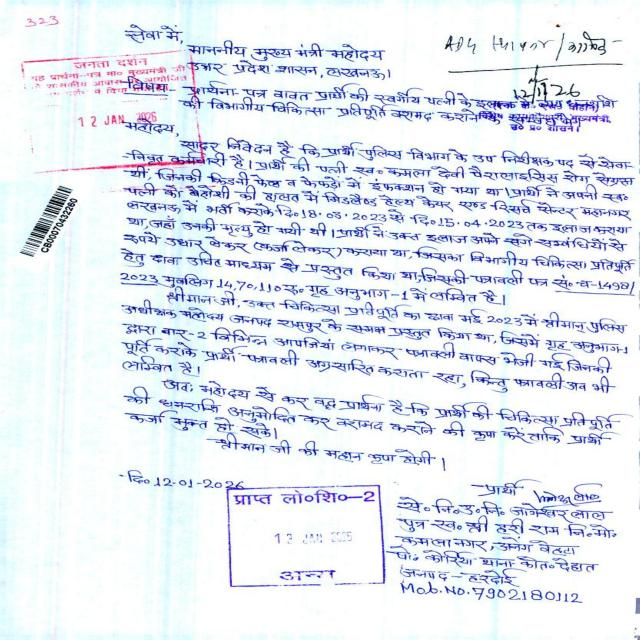antritgovtstamp: (226, 484, 386, 590)
barcode: (18, 182, 83, 260)
jantadarsan: (22, 48, 202, 172)
signnamestamp: (466, 63, 616, 140)
